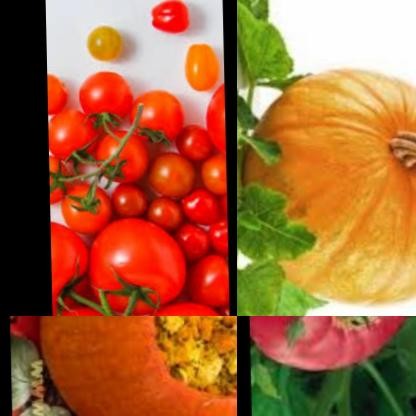pumpkin: (237, 64, 416, 312), (36, 316, 237, 416)
tomato: (82, 213, 182, 316), (246, 316, 416, 367), (77, 66, 137, 134), (48, 225, 91, 311), (126, 81, 183, 144), (141, 147, 197, 202), (46, 107, 96, 164), (53, 183, 106, 236), (95, 129, 145, 185), (181, 251, 227, 309), (81, 14, 131, 62), (197, 76, 224, 157), (181, 41, 222, 94), (120, 296, 228, 316), (143, 0, 195, 37), (164, 219, 211, 258), (172, 122, 212, 163), (145, 194, 187, 230), (112, 180, 150, 217), (177, 191, 219, 223), (47, 154, 72, 203), (46, 66, 72, 113), (194, 156, 225, 193), (205, 217, 226, 252)
